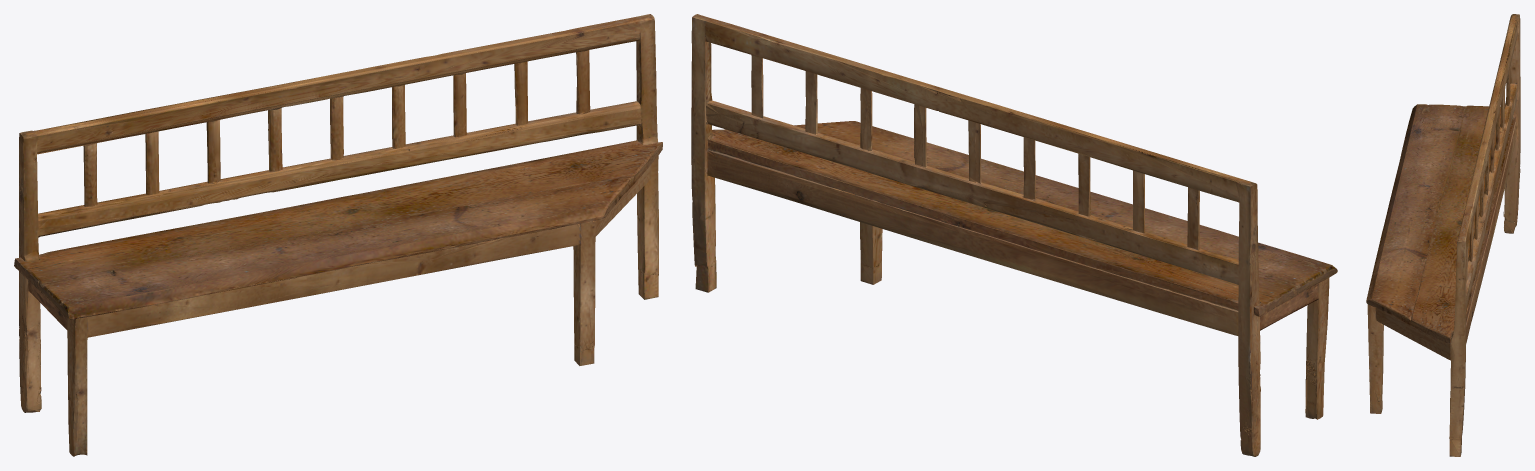
The picture shows the model from 3 angles, left to right: view 1: azimuth 30°, elevation 25°; view 2: azimuth 150°, elevation 25°; view 3: azimuth 270°, elevation 25°; orthographic projection. The views are drawn at different scales.
Parts seen in each view (by area): view 1: Holzbank_34k_0.5k; view 2: Holzbank_34k_0.5k; view 3: Holzbank_34k_0.5k.
Boxes of the visible parts, <box> form: Holzbank_34k_0.5k: <box>14,14,662,456</box>; Holzbank_34k_0.5k: <box>691,14,1337,456</box>; Holzbank_34k_0.5k: <box>1366,14,1520,456</box>.
Bounding box in the file's own units: 2.12 × 0.9105 × 0.588.
Materials: 1 (1 with a texture image).
